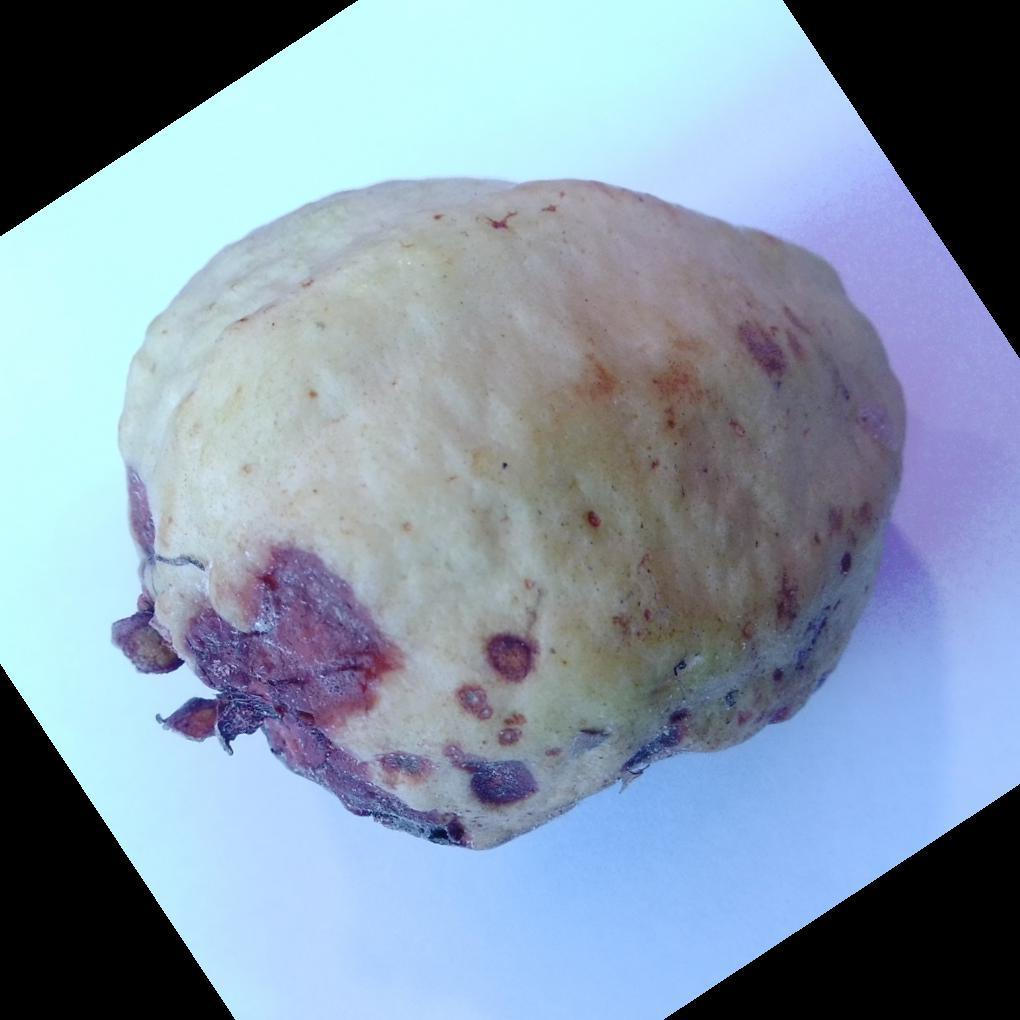FreshOrange: (110, 177, 909, 856)
